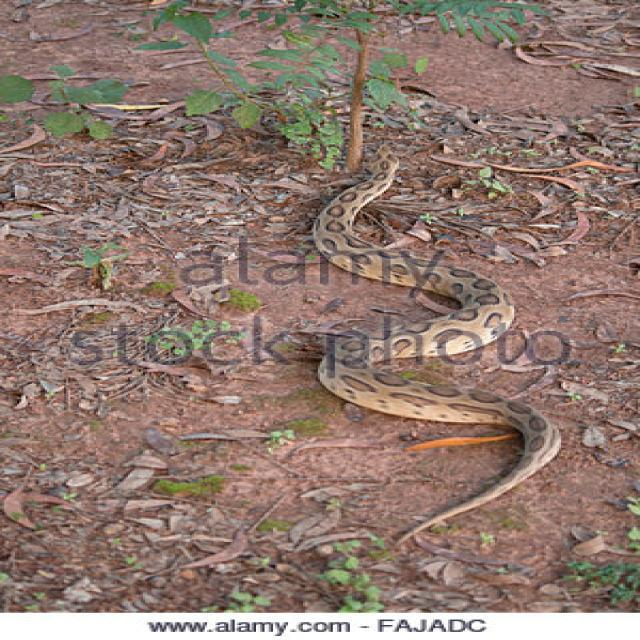Snake: (302, 143, 564, 553)
